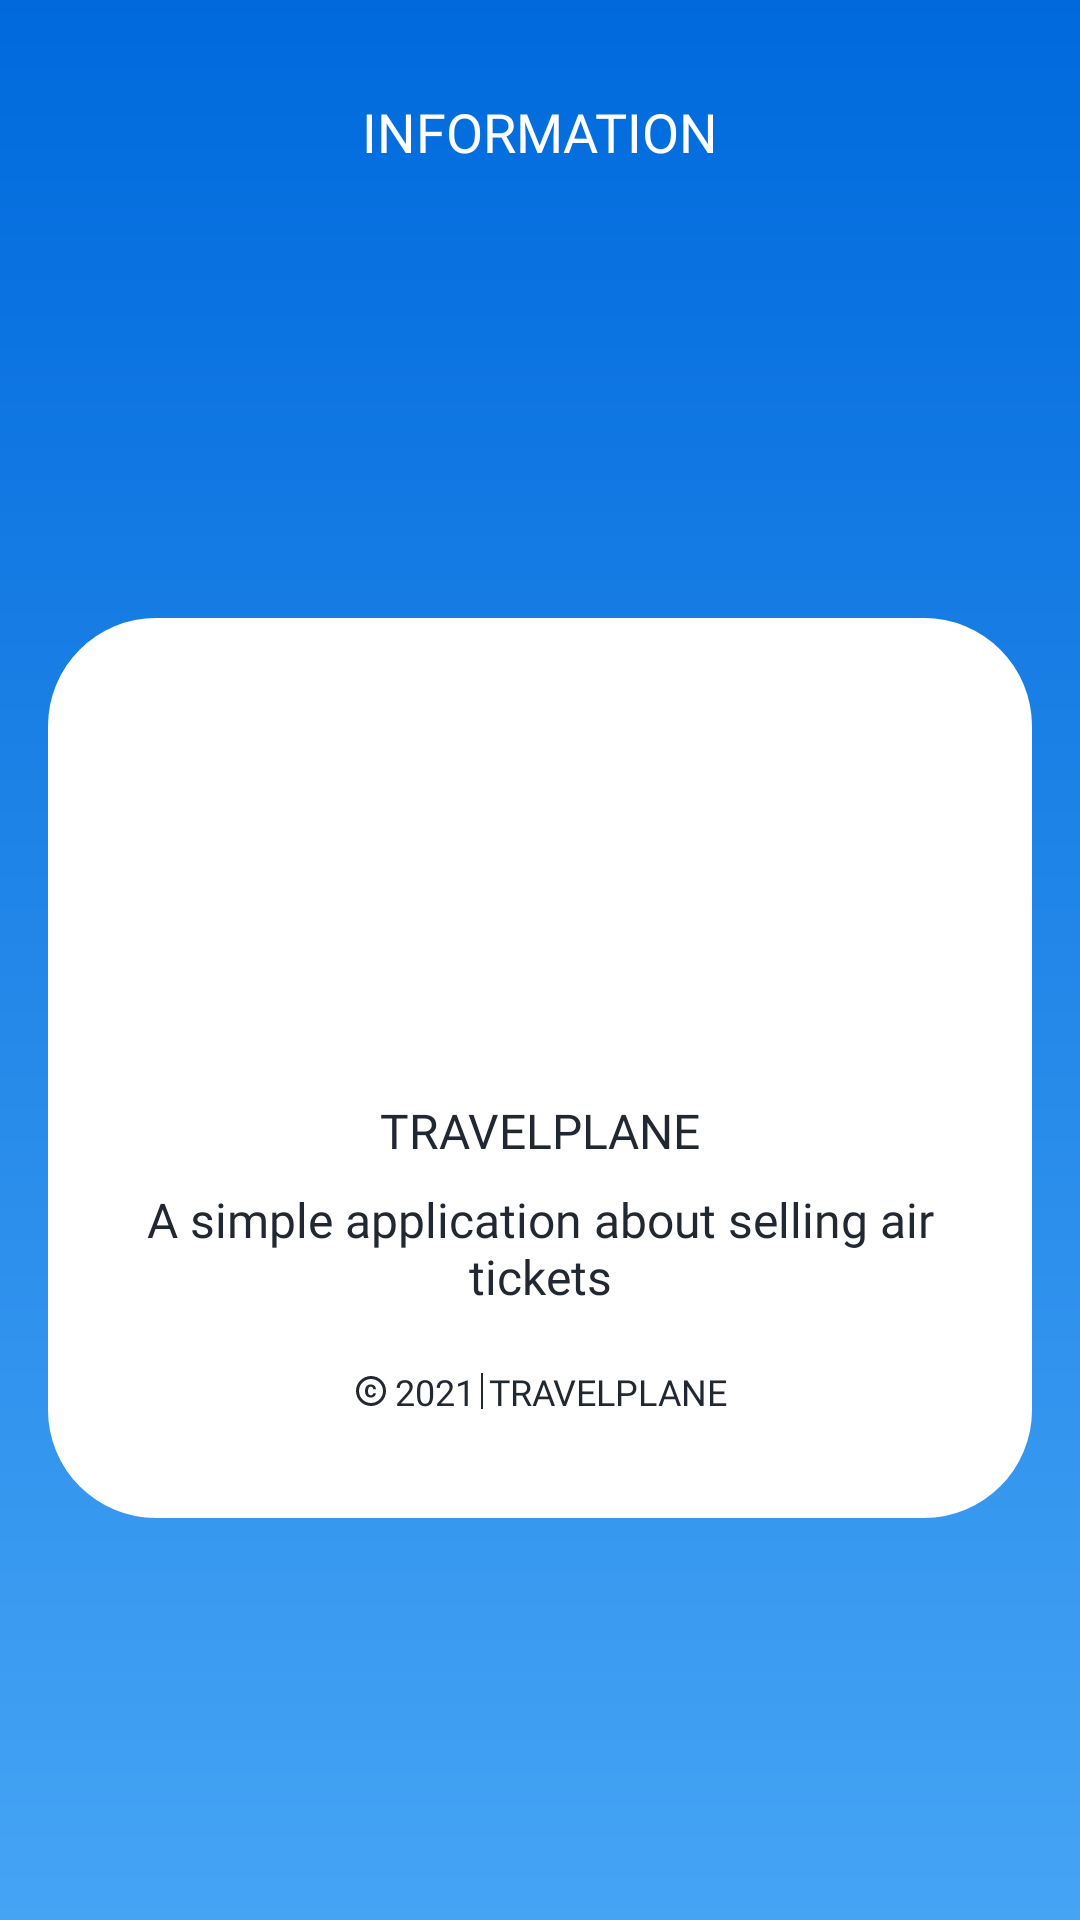

Locate icon controls on the screen. Image size 1080 x 1920, boxes as (x1, y1, x2, y2).
copyright: (356, 1376, 386, 1406)
